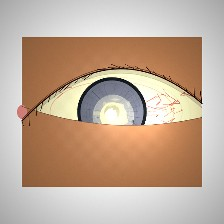corneal_ulcer: (91, 98, 136, 134)
